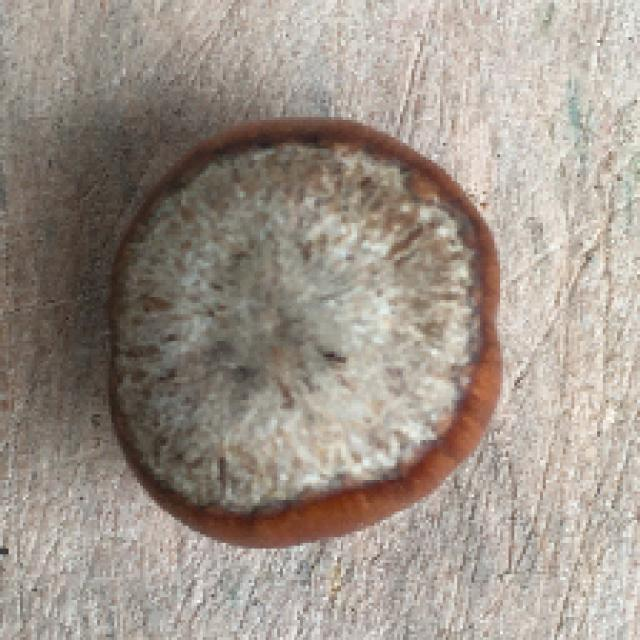qualityHazelnut: (77, 93, 510, 550)
